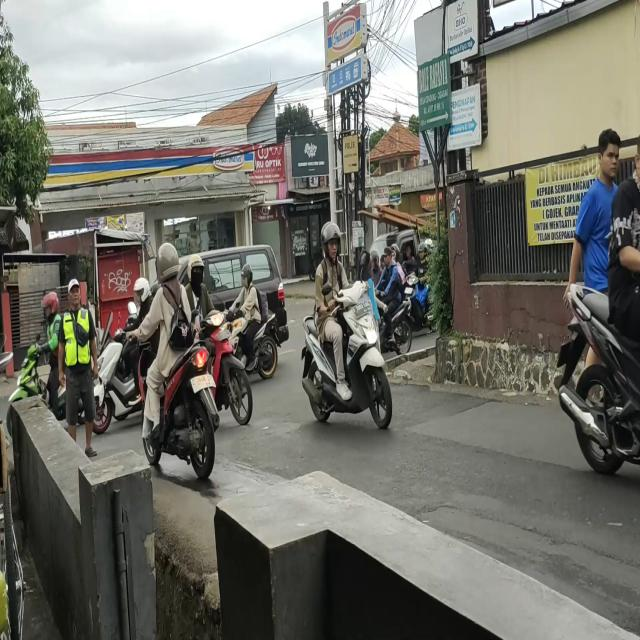helmet: (156, 243, 180, 283), (320, 222, 342, 262), (39, 290, 61, 320), (187, 251, 204, 284), (134, 279, 150, 301), (240, 263, 252, 287)
no-helmet: (383, 248, 392, 266)
